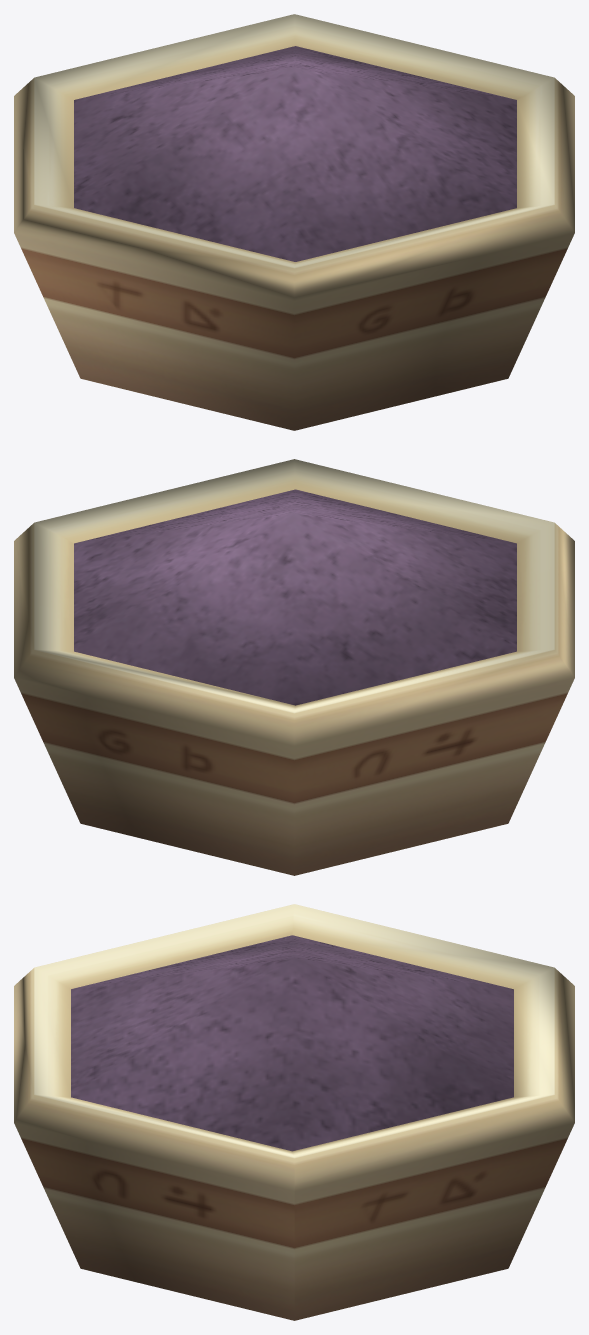
Rendered from powder_01.fbx.
The picture shows the model from 3 angles, top to bottom: view 1: azimuth 30°, elevation 25°; view 2: azimuth 150°, elevation 25°; view 3: azimuth 270°, elevation 25°; orthographic projection.
Visible parts, largest first — view 1: powder_01Mesh; view 2: powder_01Mesh; view 3: powder_01Mesh.
Part boxes in pixels (x1,y1,x2,y2): powder_01Mesh: [14, 14, 574, 430]; powder_01Mesh: [14, 459, 574, 875]; powder_01Mesh: [14, 904, 574, 1320].
Bounding box in the file's own units: 0.5531 × 0.2426 × 0.479.
